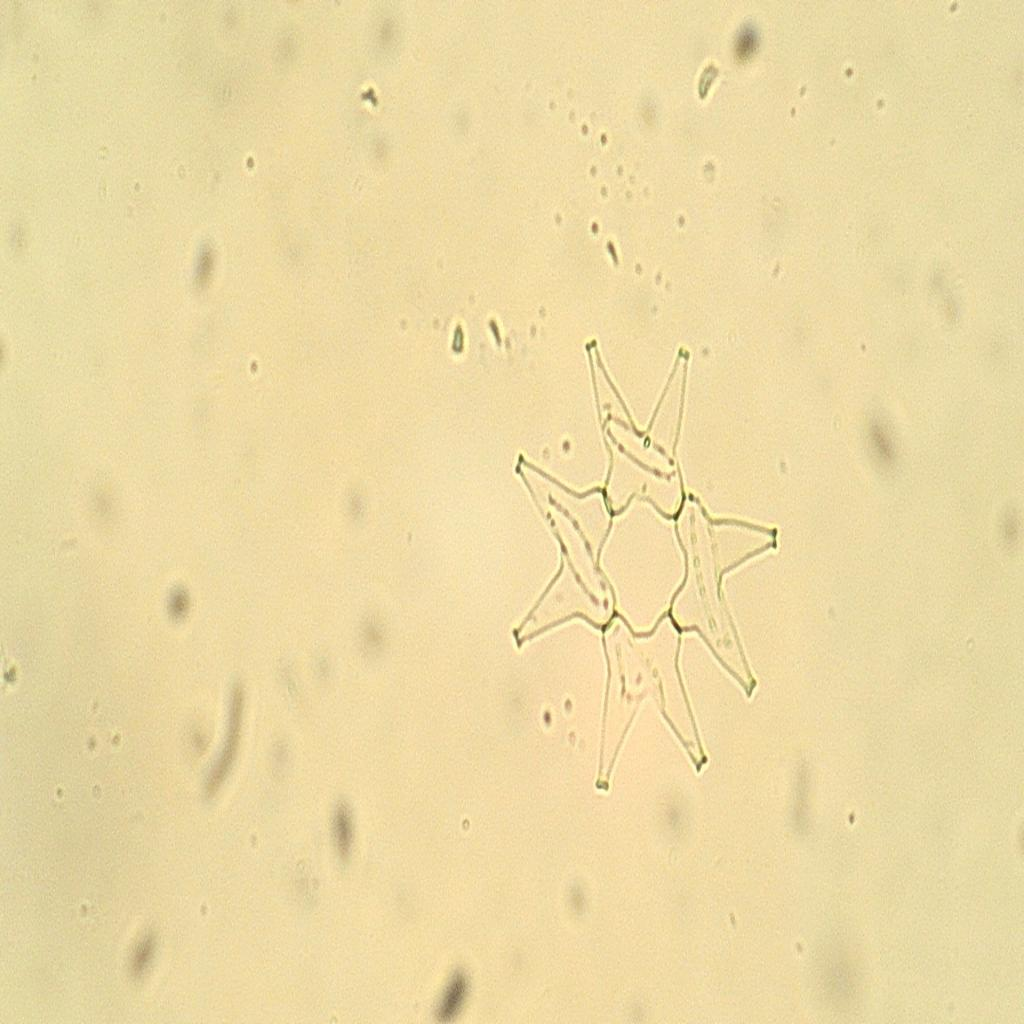Pediastrum_75TH: (509, 329, 791, 811)
